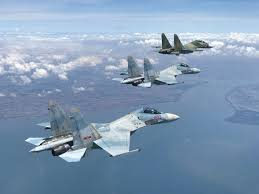maybay_muctieu: (19, 98, 185, 157), (117, 56, 204, 89), (150, 34, 216, 52)
